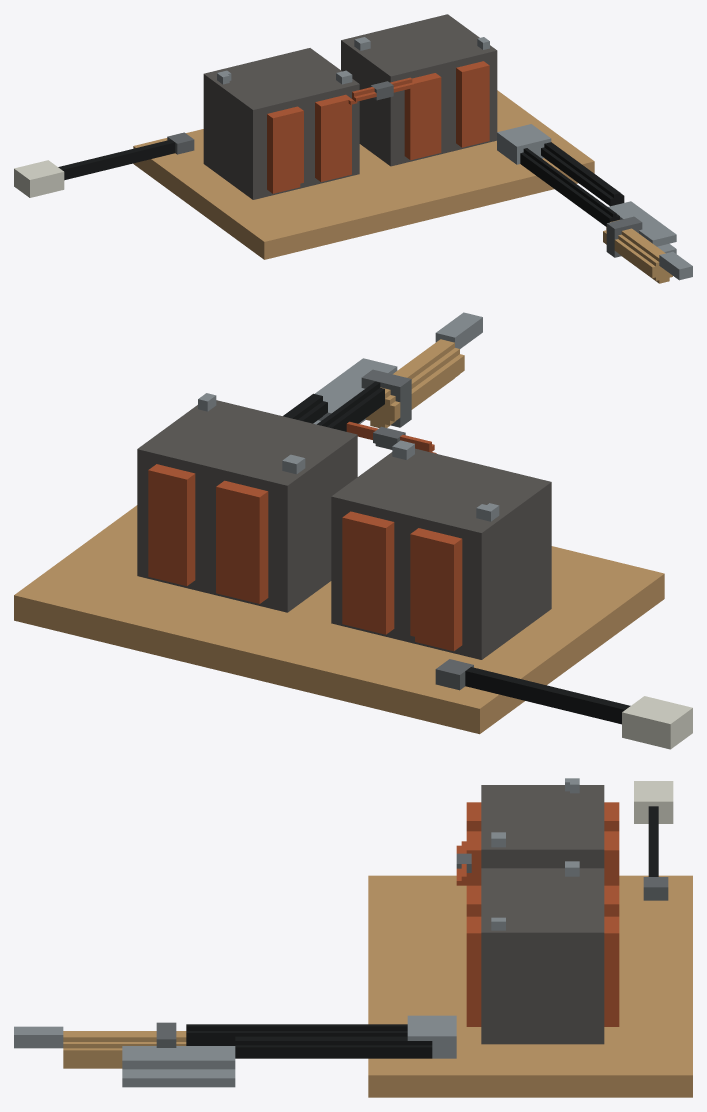
The model's file is welder_crude.glb.
The picture shows the model from 3 angles, top to bottom: view 1: azimuth 30°, elevation 25°; view 2: azimuth 150°, elevation 25°; view 3: azimuth 270°, elevation 25°; orthographic projection. The views are drawn at different scales.
Parts seen in each view (by area): view 1: welder_crude:compound; view 2: welder_crude:compound; view 3: welder_crude:compound.
Boxes of the visible parts, left/top/right/bottom form: welder_crude:compound: left=14, top=14, right=692, bottom=283; welder_crude:compound: left=14, top=312, right=692, bottom=749; welder_crude:compound: left=14, top=778, right=692, bottom=1097.
Size of the model in its own units: 0.532 by 0.128 by 0.552.
